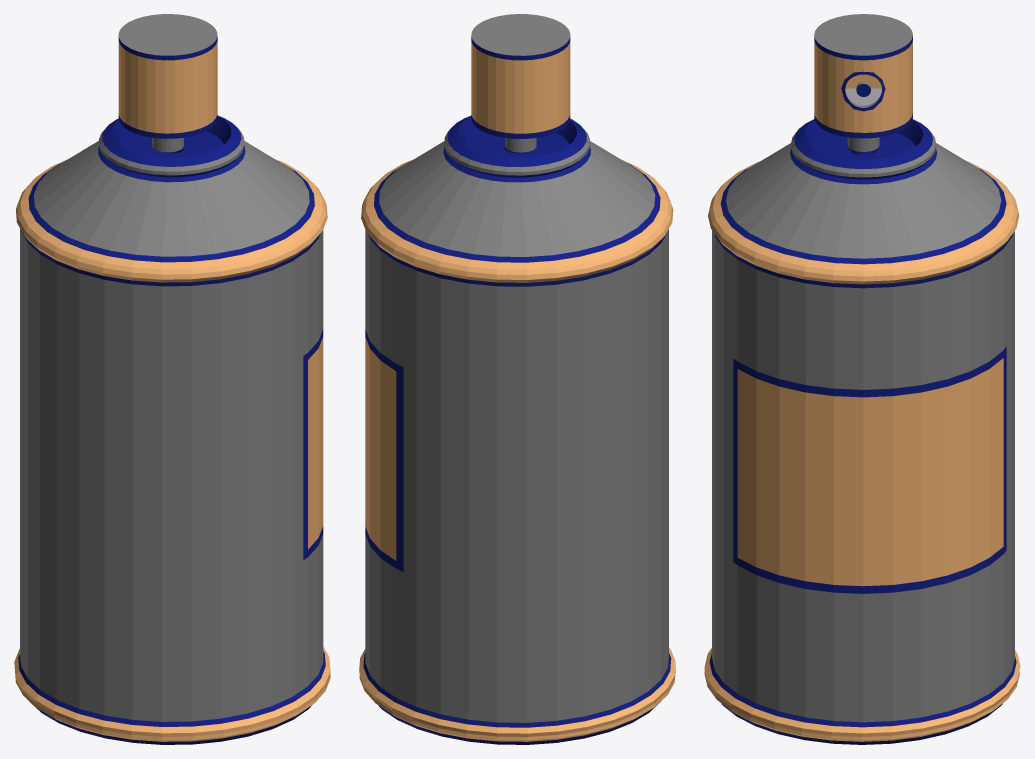
The model's file is colorcan.fbx.
3 views of the same model, side by side, from view 1: azimuth 30°, elevation 25°; view 2: azimuth 150°, elevation 25°; view 3: azimuth 270°, elevation 25° (orthographic).
Parts seen in each view (by area): view 1: Circle; view 2: Circle; view 3: Circle.
Part boxes in pixels (x1,y1,x2,y2): Circle: [14, 14, 330, 744]; Circle: [359, 14, 675, 744]; Circle: [704, 14, 1020, 744].
Bounding box in the file's own units: 210 × 472 × 210.
